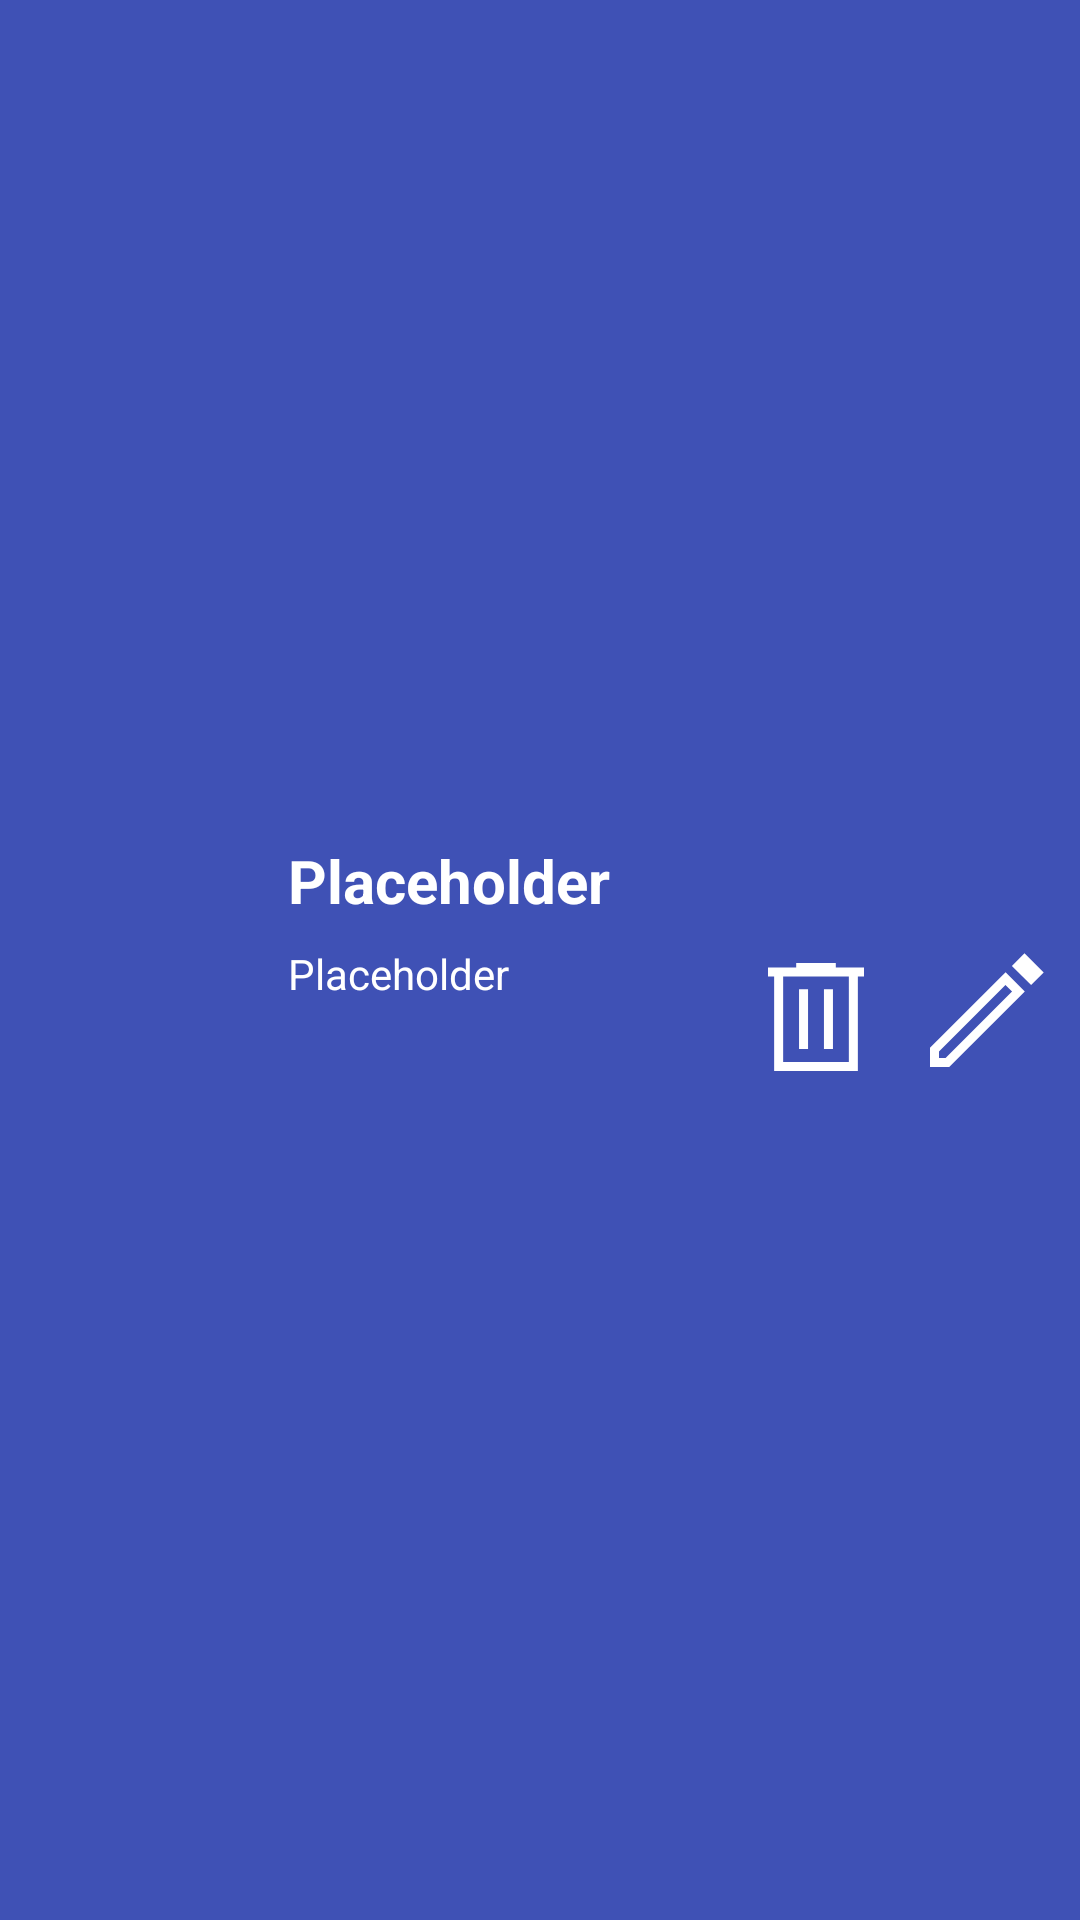

Icons on this 1080 x 1920 Android screen, each with its box as (x1, y1, x2, y2):
Delete Task: (768, 963, 864, 1071)
Edit Task: (930, 953, 1044, 1067)
